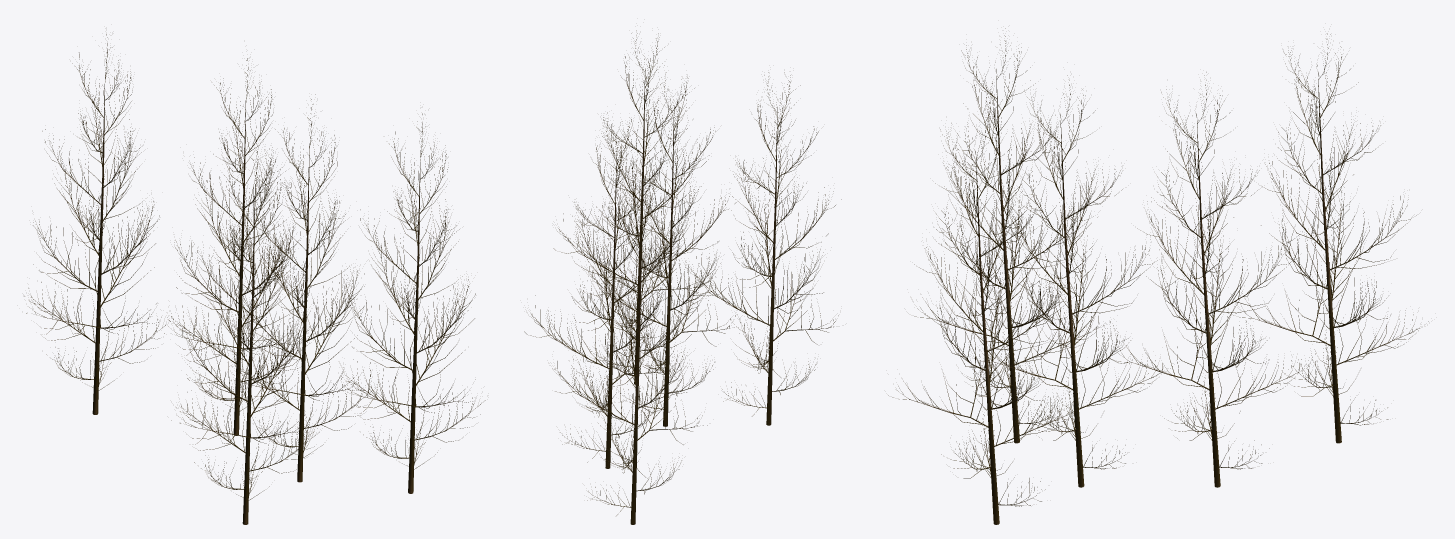
The model's file is PinosRama.obj.
The picture shows the model from 3 angles, left to right: view 1: azimuth 30°, elevation 25°; view 2: azimuth 150°, elevation 25°; view 3: azimuth 270°, elevation 25°; orthographic projection. The views are drawn at different scales.
Parts seen in each view (by area): view 1: tree.004, tree.002, tree.003, tree, tree.001; view 2: tree.003, tree.002, tree, tree.001, tree.004; view 3: tree.004, tree.003, tree.001, tree, tree.002.
Boxes of the visible parts, x1,y1,x2,y2 form: tree.004: [336, 113, 485, 493]; tree.002: [171, 140, 319, 524]; tree.003: [24, 34, 170, 414]; tree: [231, 94, 372, 482]; tree.001: [164, 58, 309, 435]; tree.003: [552, 171, 707, 524]; tree.002: [687, 72, 841, 425]; tree: [583, 65, 739, 426]; tree.001: [524, 112, 679, 468]; tree.004: [553, 30, 714, 384]; tree.004: [888, 109, 1087, 524]; tree.003: [1231, 33, 1428, 443]; tree.001: [1118, 72, 1306, 487]; tree: [976, 75, 1172, 487]; tree.002: [914, 28, 1104, 443].
Size of the model in its own units: 12.44 by 14.88 by 17.44.
